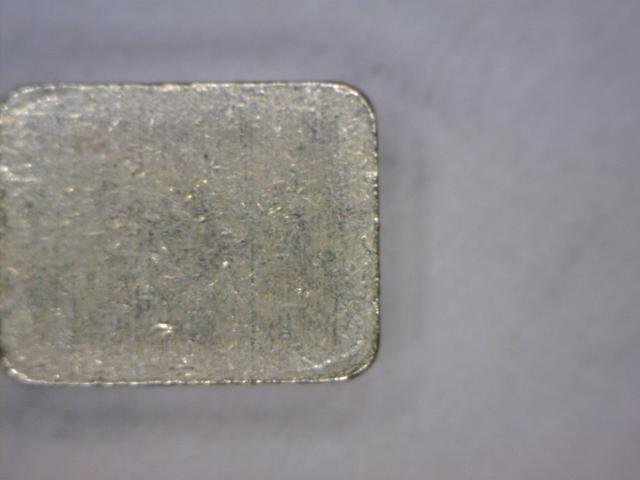ok: (6, 76, 391, 396)
